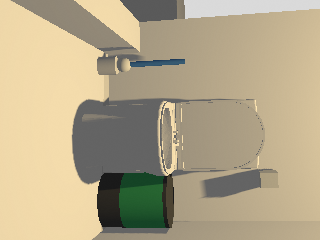lid_1: (176, 100, 266, 171)
